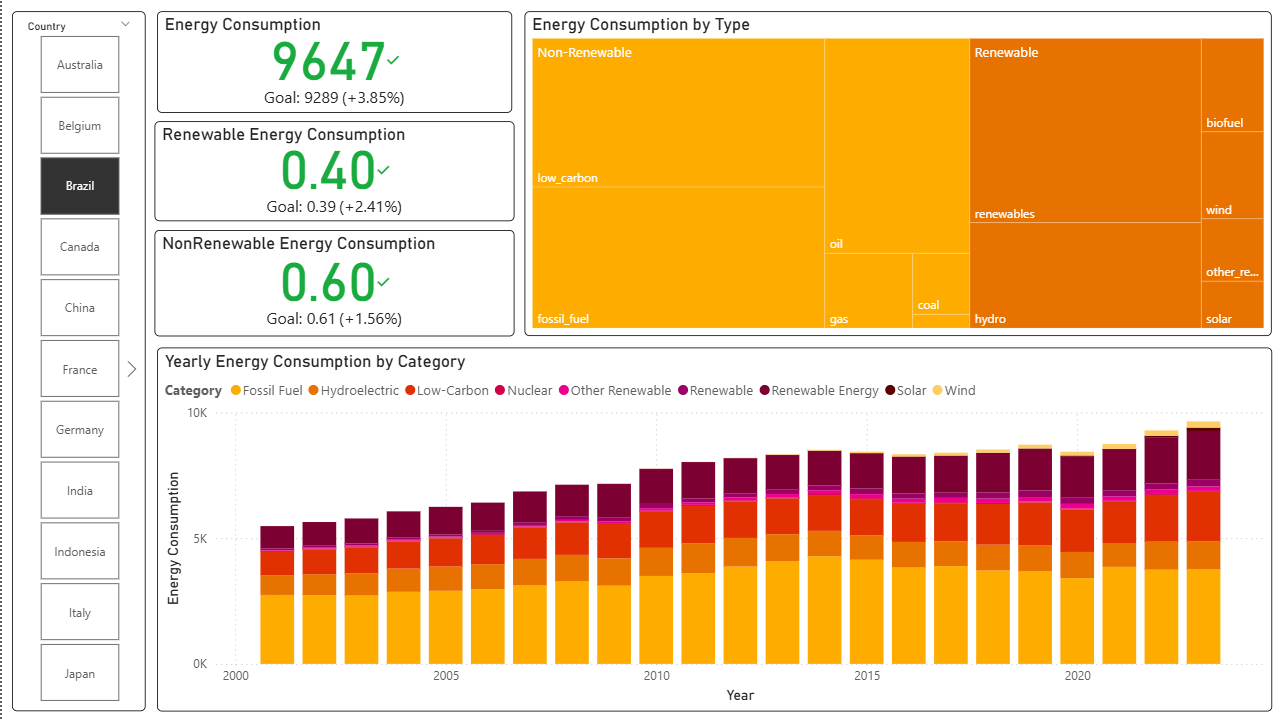

The page's visual inventory and layout, read from the dashboard file:
{"tool":"powerbi","page":{"name":"Details","canvas":[1280,720],"ordinal":1},"visuals":[{"type":"slicer","fields":{"Values":["DimCountry.Country"]},"box":[10,11.2,133.8,700],"z":0},{"type":"columnChart","title":"Yearly Energy Consumption by Category","fields":{"Category":["DimYear.Year"],"Y":["Sum(FactEnergy.Consumption)"],"Series":["DimType.Category"]},"box":[155,347.5,1115,363.8],"z":1000},{"type":"kpi","title":"Energy Consumption","fields":{"TrendLine":["DimYear.Year"],"Indicator":["MeasureTable.CurrentYearValue"],"Goal":["MeasureTable.PreviousYearValue"]},"box":[155,11.2,355,101.2],"z":2000},{"type":"kpi","title":"Renewable Energy Consumption","fields":{"Indicator":["MeasureTable.CurrentRenewablePrct"],"TrendLine":["DimYear.Year"],"Goal":["MeasureTable.PreviousRenewablePrct"]},"box":[152.5,121.2,360,100],"z":3000},{"type":"kpi","title":"NonRenewable Energy Consumption","fields":{"Indicator":["MeasureTable.CurrentNRenewablePrct"],"TrendLine":["DimYear.Year"],"Goal":["MeasureTable.LastNRenewablePrct"]},"box":[152.5,230,360,106.2],"z":4000},{"type":"treemap","title":"Energy Consumption by Type","fields":{"Values":["Sum(FactEnergy.Consumption)"],"Details":["DimType.Type"],"Group":["DimType.AltCategory"]},"box":[522.5,11.2,747.5,325],"z":5000}]}

Visuals, with their boxes in screenshot pixels (x1, y1, x2, y2), scaled from the page's 1280x720 canvas onto the 1282x720 screenshot:
slicer - DimCountry.Country: x1=10 y1=11 x2=144 y2=711
"Yearly Energy Consumption by Category" columnChart: x1=155 y1=348 x2=1272 y2=711
"Energy Consumption" kpi: x1=155 y1=11 x2=511 y2=112
"Renewable Energy Consumption" kpi: x1=153 y1=121 x2=513 y2=221
"NonRenewable Energy Consumption" kpi: x1=153 y1=230 x2=513 y2=336
"Energy Consumption by Type" treemap: x1=523 y1=11 x2=1272 y2=336
